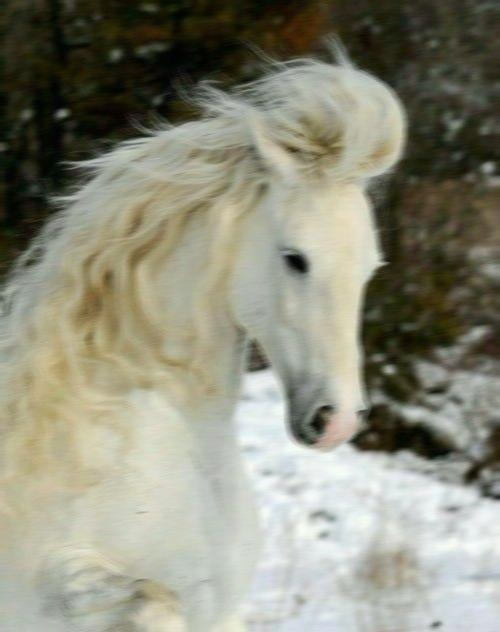horse: (0, 30, 407, 631)
